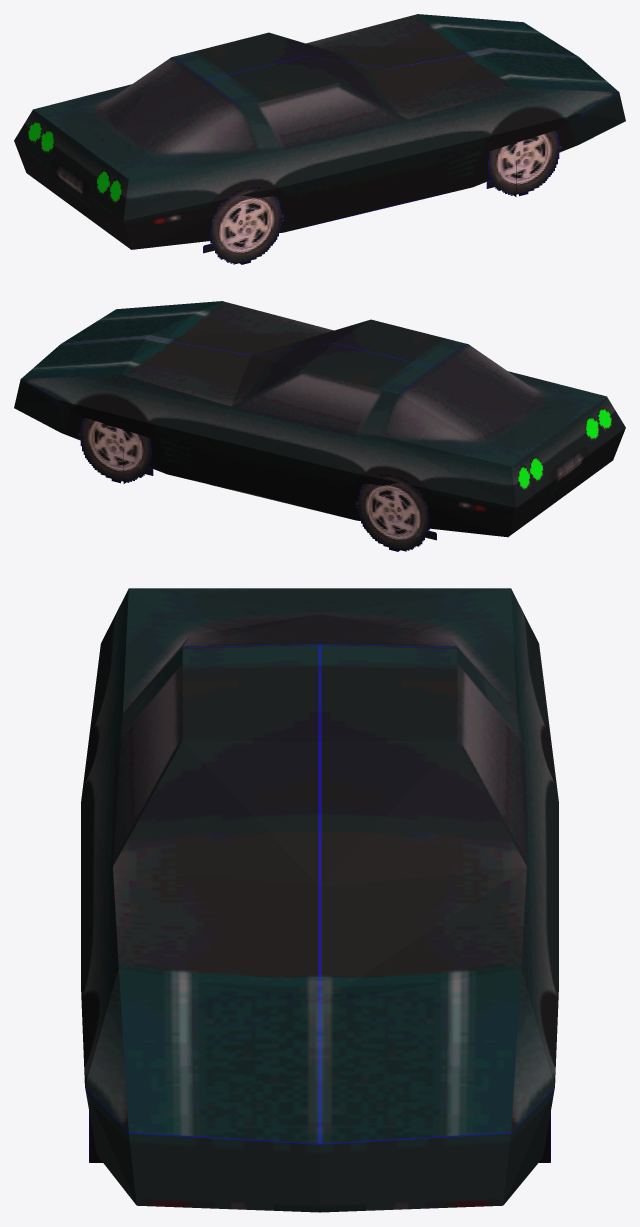
File: _CORVETT.obj
3 views of the same model, one above another, from view 1: azimuth 30°, elevation 25°; view 2: azimuth 150°, elevation 25°; view 3: azimuth 270°, elevation 25° (orthographic). The views are drawn at different scales.
Bounding box in the file's own units: 601 × 151 × 240.
1 material, 1 textured.
